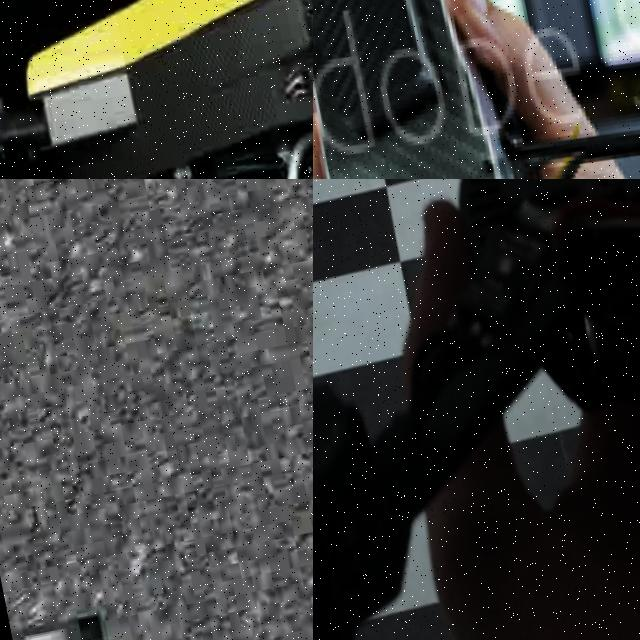drone: (313, 179, 640, 640), (313, 0, 640, 179), (0, 0, 313, 179)
